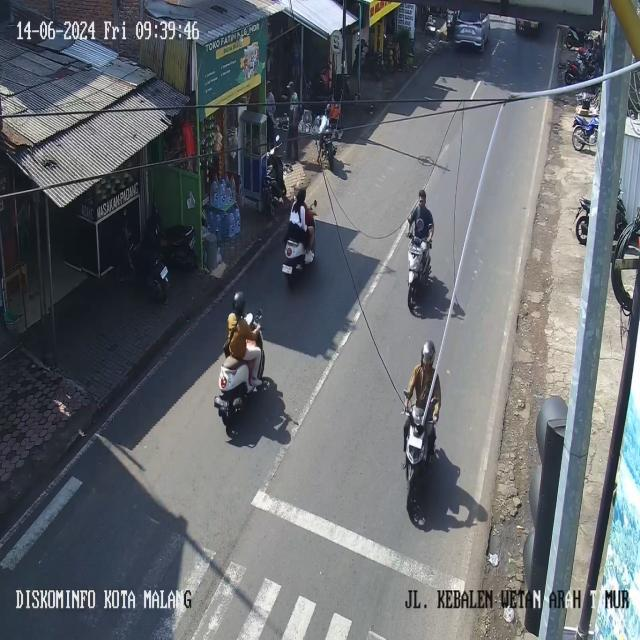Helmet: (421, 340, 435, 364), (232, 291, 244, 315)
Number Plate: (282, 265, 293, 274), (160, 266, 167, 278)
